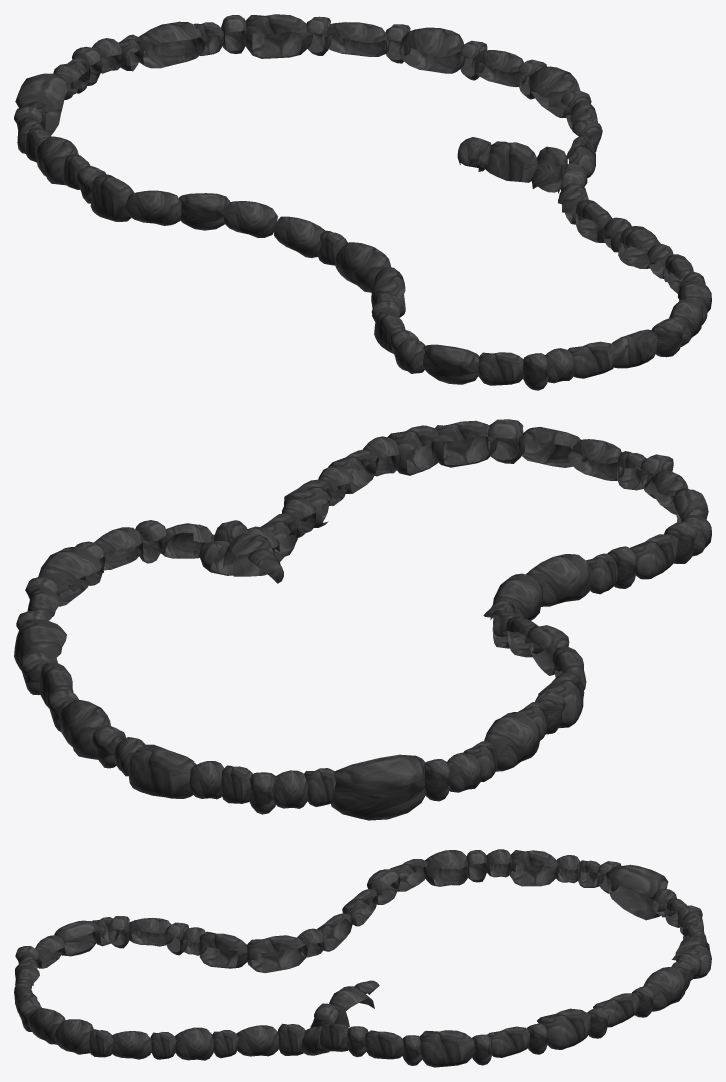
Rendered from FIBorderStonesShape.dae.
The picture shows the model from 3 angles, top to bottom: view 1: azimuth 30°, elevation 25°; view 2: azimuth 150°, elevation 25°; view 3: azimuth 270°, elevation 25°; orthographic projection. The views are drawn at different scales.
Visible parts, largest first — view 1: FIBorderStones; view 2: FIBorderStones; view 3: FIBorderStones.
Part boxes in pixels (left/top/right/bottom): FIBorderStones: left=14, top=14, right=711, bottom=390; FIBorderStones: left=14, top=419, right=711, bottom=820; FIBorderStones: left=14, top=849, right=711, bottom=1067.
Bounding box in the file's own units: 82.73 × 11.49 × 125.
